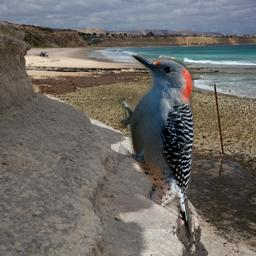Woodpecker: (117, 50, 194, 244)
